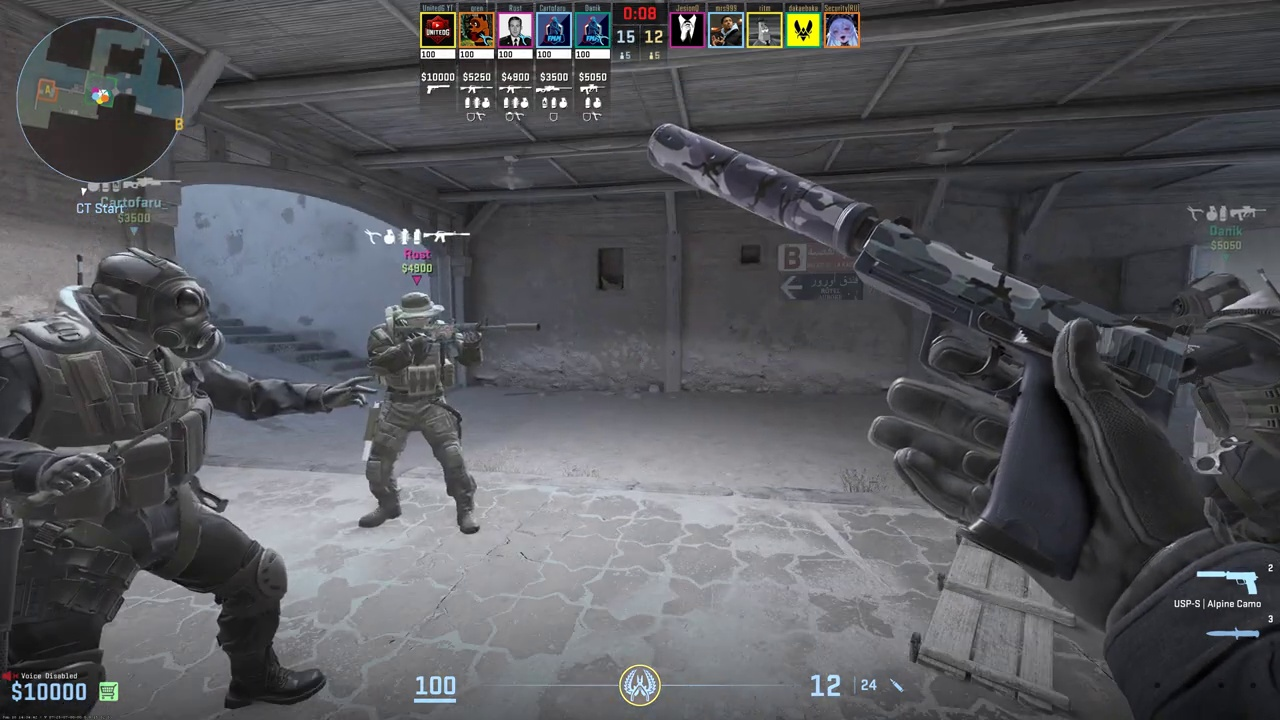CT: (5, 250, 294, 705), (348, 292, 483, 533), (1166, 270, 1280, 553)
